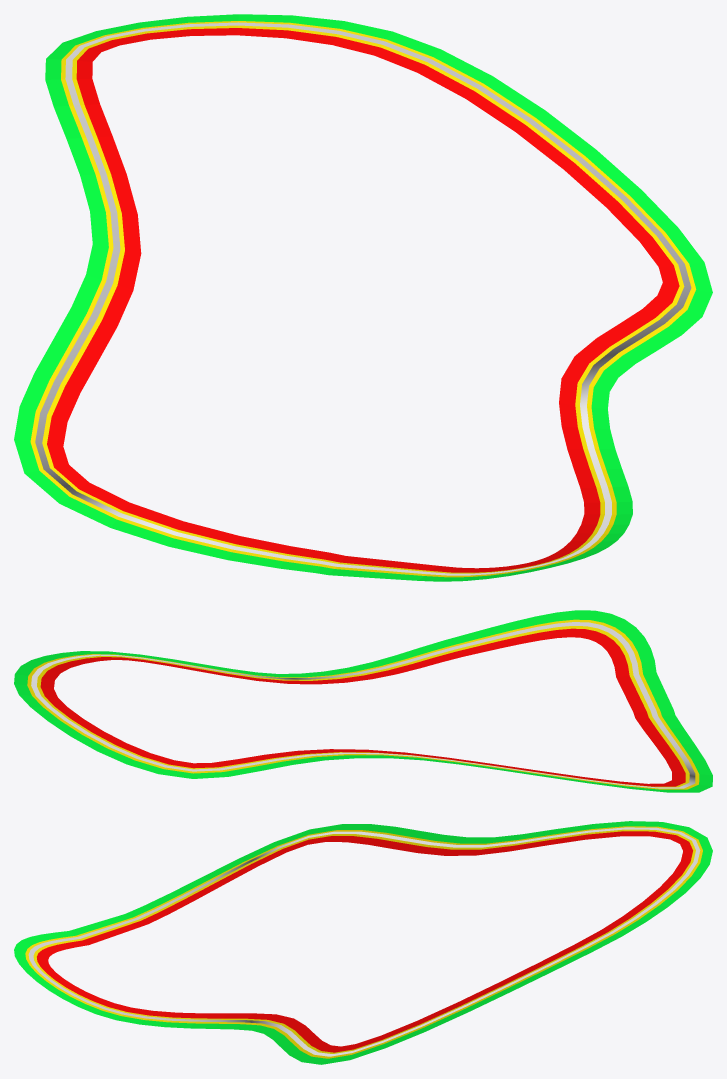
The model's file is path1.FBX.
3 views of the same model, one above another, from view 1: azimuth 30°, elevation 25°; view 2: azimuth 150°, elevation 25°; view 3: azimuth 270°, elevation 25° (orthographic). The views are drawn at different scales.
Parts seen in each view (by area): view 1: Line001, Object001; view 2: Line001, Object001; view 3: Line001, Object001.
Part boxes in pixels (left/top/right/bottom): Line001: left=14, top=14, right=712, bottom=581; Object001: left=35, top=22, right=691, bottom=575; Line001: left=14, top=610, right=712, bottom=792; Object001: left=31, top=622, right=695, bottom=788; Line001: left=14, top=821, right=712, bottom=1064; Object001: left=28, top=827, right=700, bottom=1056.
Size of the model in its own units: 102 by 25.84 by 124.
